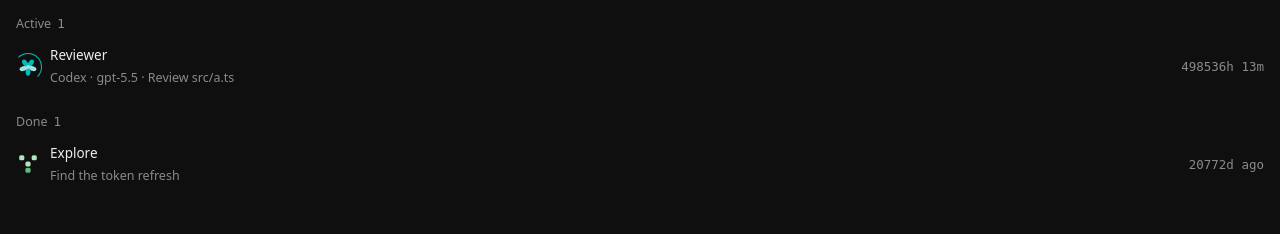
a subagent opened from the Agents tab › shows an engine’s own subagent from its snapshot, without a transcript
Click the button "Explore Find the token refresh 20772d ago" at [74, 153], box [8,137,1272,191]
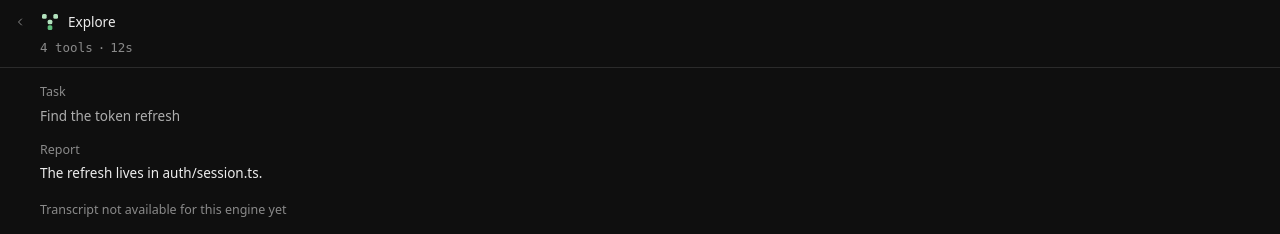
expect the text "Find the token refresh" is shown: met, box [40,107,180,125]
expect the text "The refresh lives in auth/session.ts." is shown: met, box [40,164,262,182]
expect the text "Transcript not available for this engine yet" is shown: met, box [40,201,286,218]
